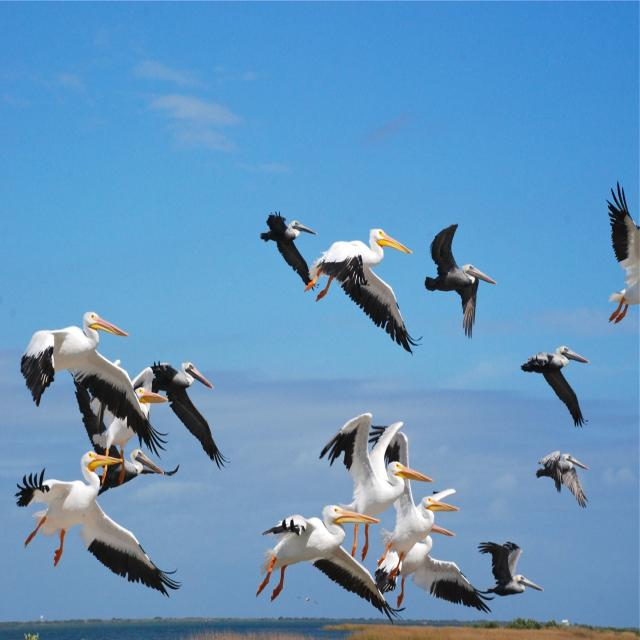bird: (18, 306, 150, 468), (17, 452, 168, 581), (298, 230, 424, 354), (314, 412, 438, 524), (254, 505, 378, 600), (133, 360, 232, 474), (428, 222, 500, 343), (521, 345, 591, 434), (601, 182, 640, 322), (262, 212, 319, 289), (476, 543, 544, 602), (538, 453, 592, 507)
